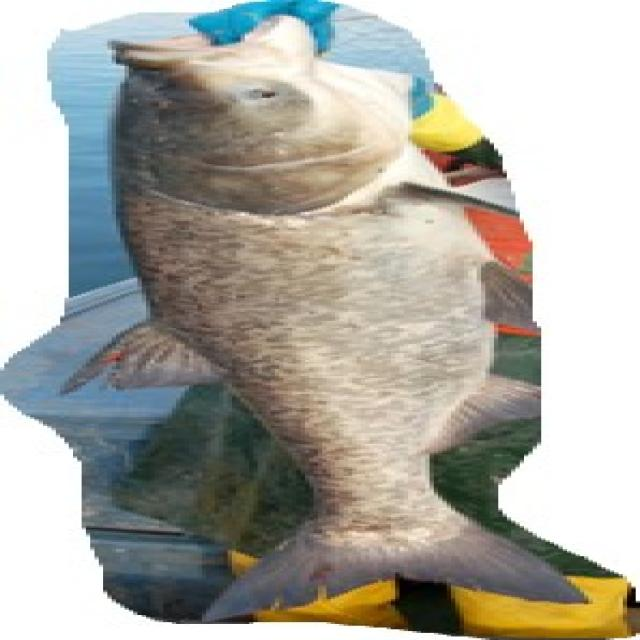Big-Head-Carp: (19, 8, 616, 630)
